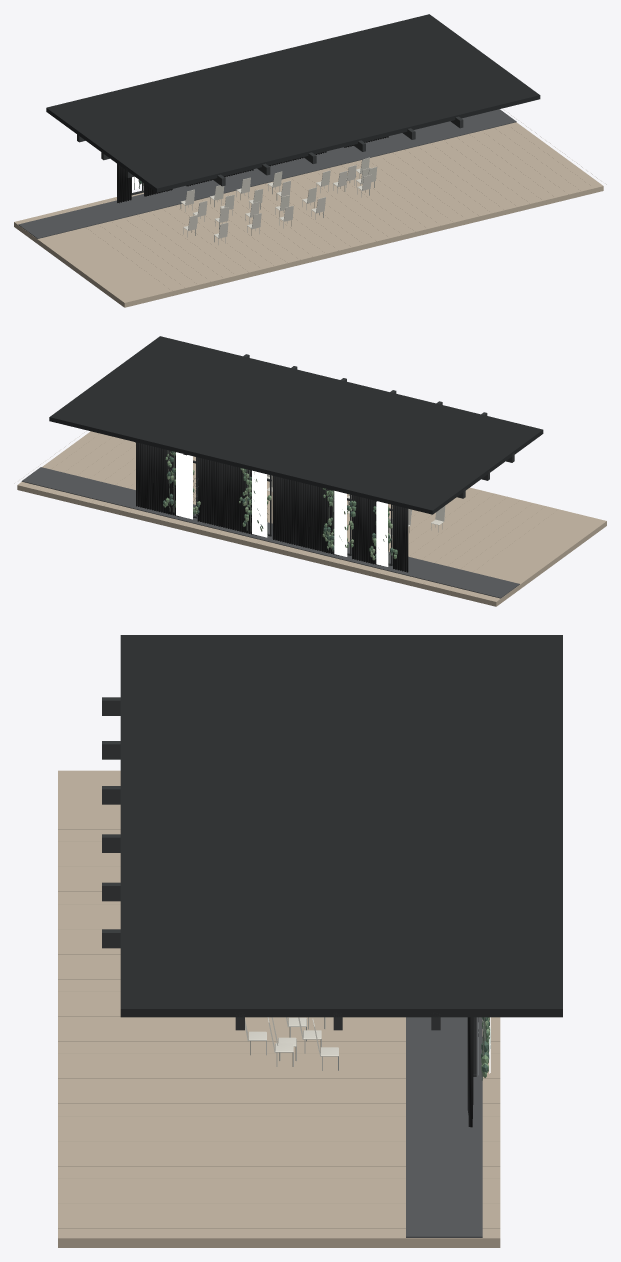
The model's file is scene-2-gpt6.glb.
3 views of the same model, one above another, from view 1: azimuth 30°, elevation 25°; view 2: azimuth 150°, elevation 25°; view 3: azimuth 270°, elevation 25° (orthographic). The views are drawn at different scales.
Visible parts, largest first — view 1: Entire black ceiling, Main maple wood floor, Back carpet zone, Black pleated curtain panel 0; view 2: Entire black ceiling, Main maple wood floor, Back carpet zone, Black pleated curtain panel 2, Black pleated curtain panel 3, Black pleated curtain panel end, Black pleated curtain panel 1, Daylight outside window 3, Black pleated curtain panel 0, Daylight outside window 2, Daylight outside window 1, Daylight outside window 0; view 3: Entire black ceiling, Main maple wood floor, Back carpet zone.
Part boxes in pixels (x1,y1,x2,y2): Entire black ceiling: [46, 14, 540, 192]; Main maple wood floor: [14, 122, 603, 307]; Back carpet zone: [18, 109, 516, 238]; Black pleated curtain panel 0: [117, 164, 131, 203]; Entire black ceiling: [49, 336, 543, 514]; Main maple wood floor: [17, 431, 606, 606]; Back carpet zone: [21, 467, 519, 598]; Black pleated curtain panel 2: [272, 476, 338, 555]; Black pleated curtain panel 3: [197, 457, 256, 535]; Black pleated curtain panel end: [136, 443, 180, 516]; Black pleated curtain panel 1: [352, 495, 380, 565]; Daylight outside window 3: [176, 452, 192, 519]; Black pleated curtain panel 0: [393, 505, 408, 572]; Daylight outside window 2: [252, 470, 266, 537]; Daylight outside window 1: [334, 491, 346, 556]; Daylight outside window 0: [376, 501, 387, 566]; Entire black ceiling: [120, 635, 562, 1017]; Main maple wood floor: [58, 770, 500, 1247]; Back carpet zone: [406, 1017, 482, 1237].
Bounding box in the file's own units: 30.2 × 5.75 × 13.7.
